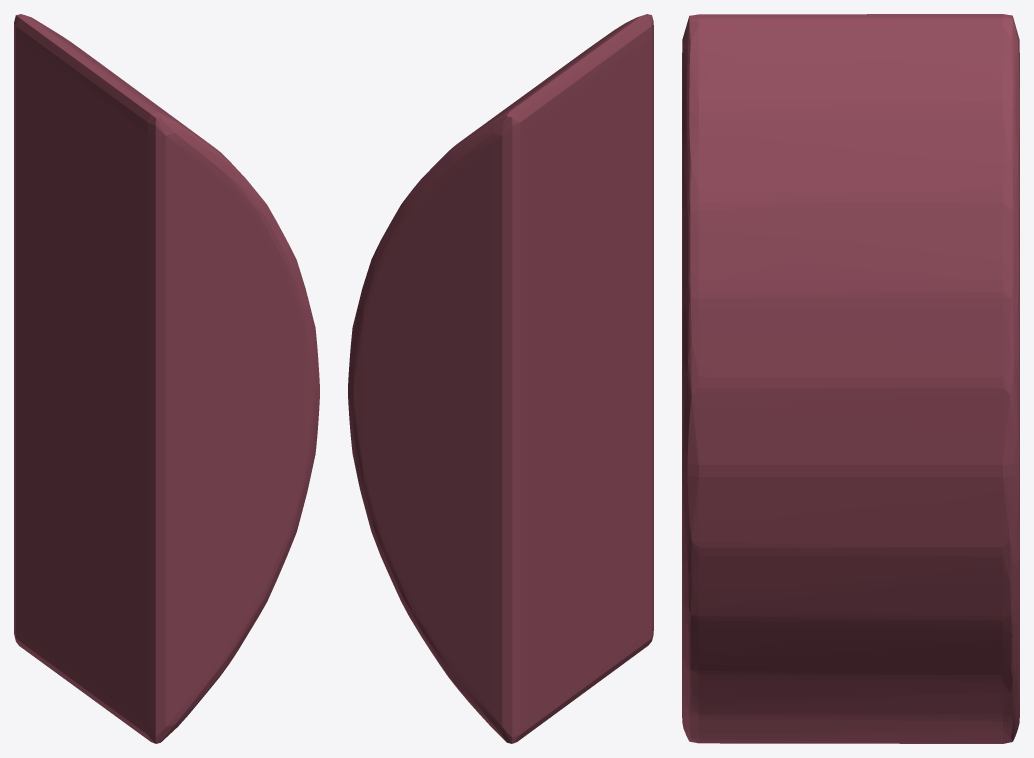
File: left_forearm_collision_part_13.obj
3 renders of one model, left to right at view 1: azimuth 30°, elevation 25°; view 2: azimuth 150°, elevation 25°; view 3: azimuth 270°, elevation 25°, orthographic. The views are drawn at different scales.
Size of the model in its own units: 32.08 by 113 by 47.76.
